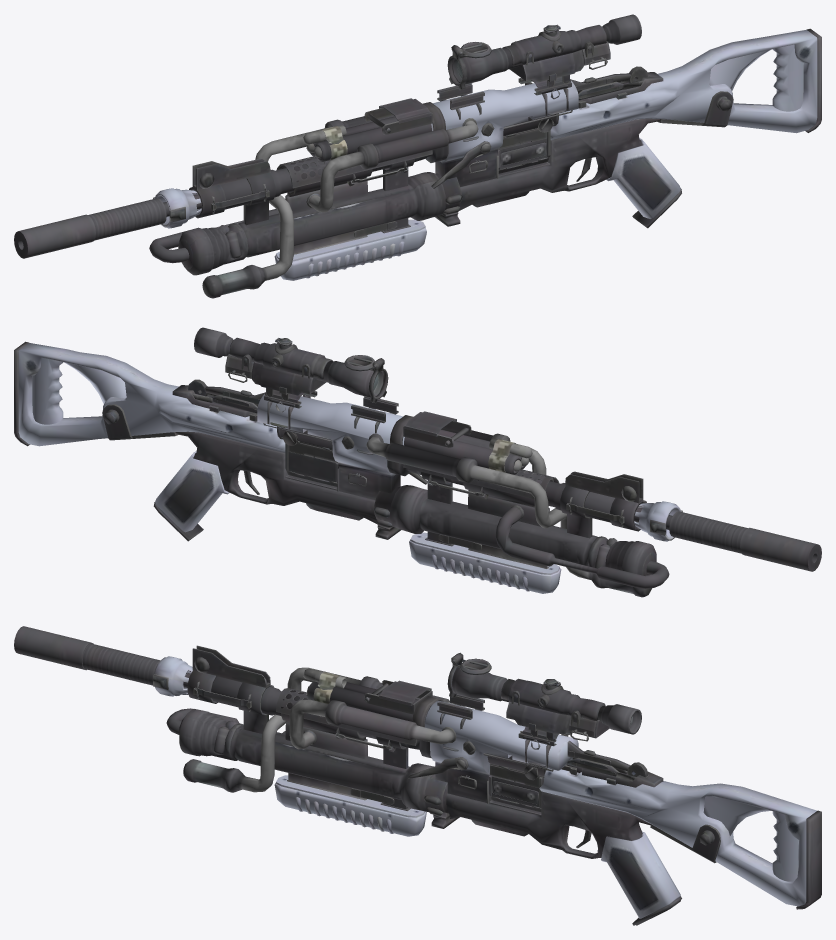
File: sniper.opt.glb
The picture shows the model from 3 angles, top to bottom: view 1: azimuth 30°, elevation 25°; view 2: azimuth 150°, elevation 25°; view 3: azimuth 330°, elevation 25°; orthographic projection.
Visible parts, largest first — view 1: flaster_low_sniperRifle_0; view 2: flaster_low_sniperRifle_0; view 3: flaster_low_sniperRifle_0.
Boxes of the visible parts, x1,y1,x2,y2 form: flaster_low_sniperRifle_0: [14, 14, 821, 298]; flaster_low_sniperRifle_0: [14, 327, 821, 597]; flaster_low_sniperRifle_0: [14, 626, 821, 925].
Size of the model in its own units: 970 by 258 by 94.14.
1 material, 1 textured.
